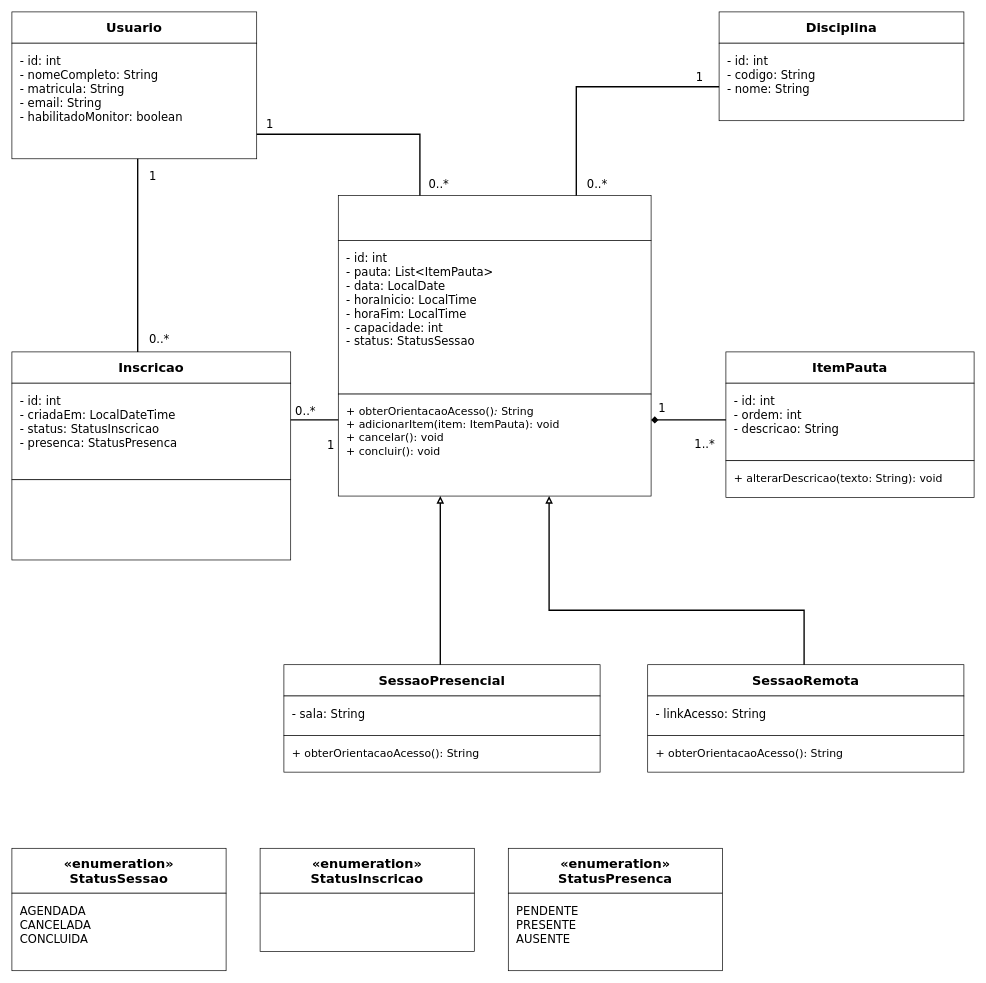
Some shapes in this 986 by 983 pixel diagram are drawn without their labels. Each missing label, with the centre of its shape:
"+ cancelar(): void + registrarPresenca( situacao: StatusPresenca): void" belongs at (151,519).
"ATIVA CANCELADA" belongs at (366,922).
"SessaoMonitoria {abstract}" belongs at (494,217).
